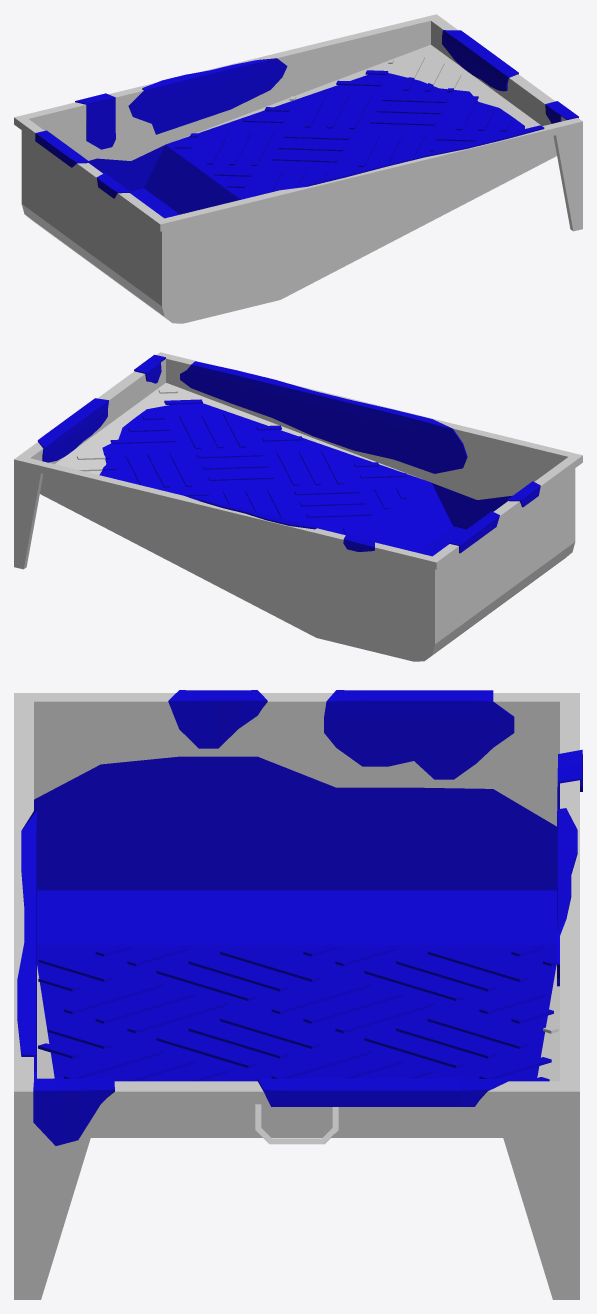
The model's file is SM_Roller_Bucket_Empty.glb.
3 renders of one model, top to bottom at view 1: azimuth 30°, elevation 25°; view 2: azimuth 150°, elevation 25°; view 3: azimuth 270°, elevation 25°, orthographic. The views are drawn at different scales.
Parts seen in each view (by area): view 1: SM_Roller_Bucket_Empty; view 2: SM_Roller_Bucket_Empty; view 3: SM_Roller_Bucket_Empty.
Boxes of the visible parts, x1,y1,x2,y2 form: SM_Roller_Bucket_Empty: [14, 14, 582, 323]; SM_Roller_Bucket_Empty: [14, 352, 582, 661]; SM_Roller_Bucket_Empty: [14, 690, 582, 1299].
Bounding box in the file's own units: 0.7445 × 0.1798 × 0.4396.
